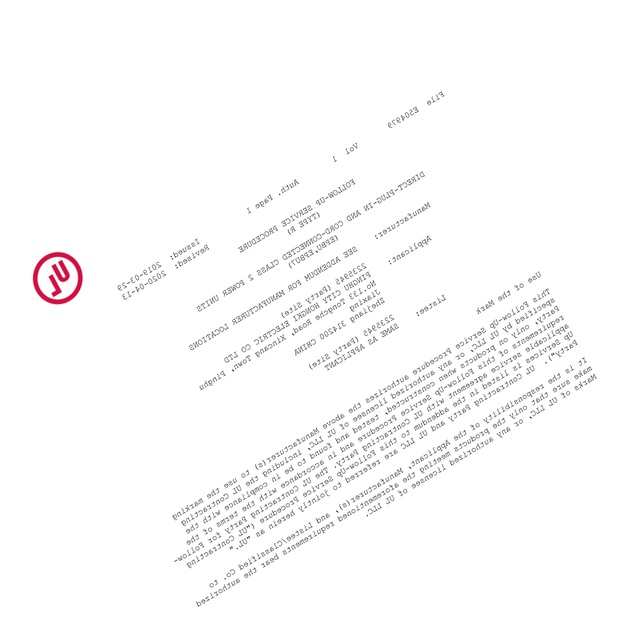ul: (32, 251, 84, 306)
